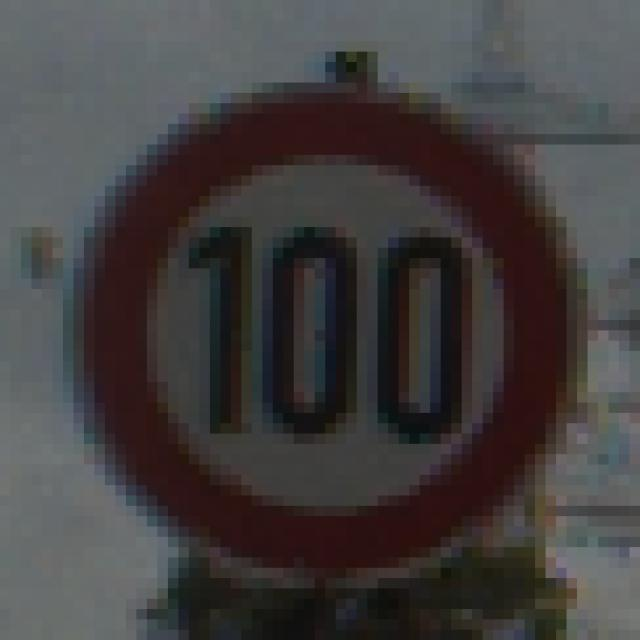speed limit 100: (62, 74, 593, 591)
